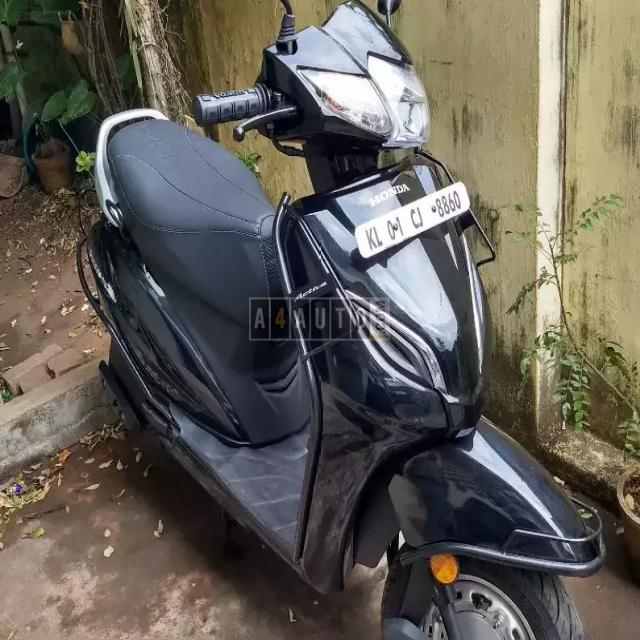number plate: (353, 180, 470, 260)
